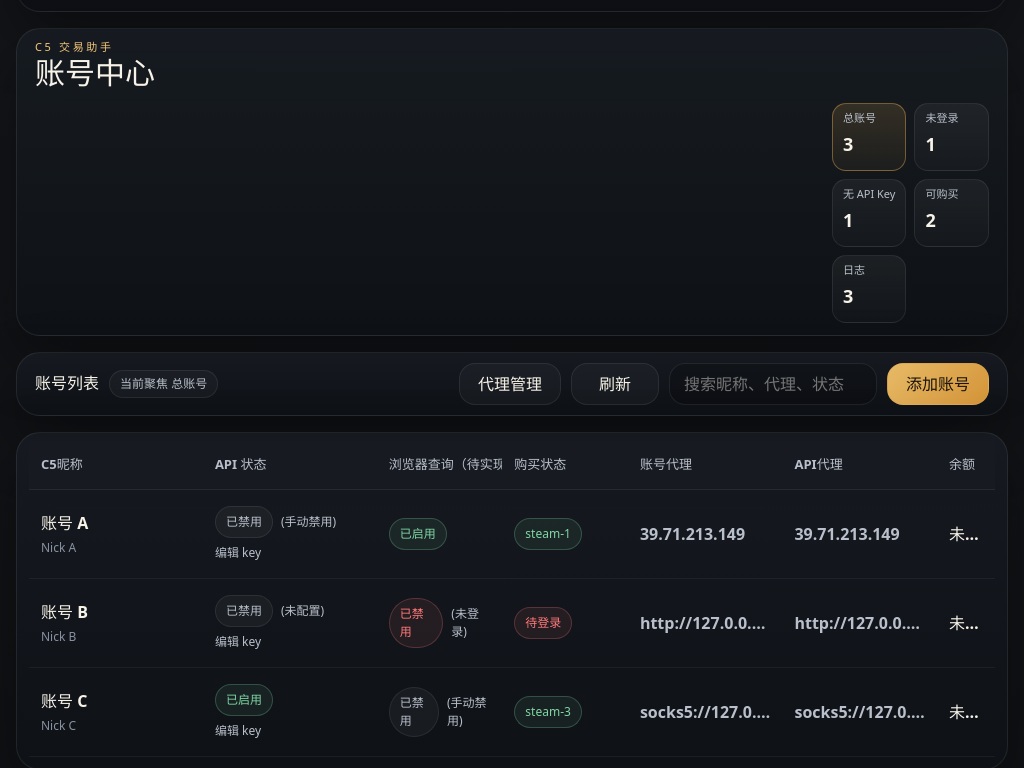
Test: account center editing flows › creates a new account from the toolbar button and refreshes the list
This screenshot has width=1024, height=768.
(page scrolled)
Expected: the text "账号 A" is shown, x1=41 y1=512 x2=88 y2=534
Step 1. Click the button "添加账号" → (938, 384), box x1=887 y1=363 x2=989 y2=405
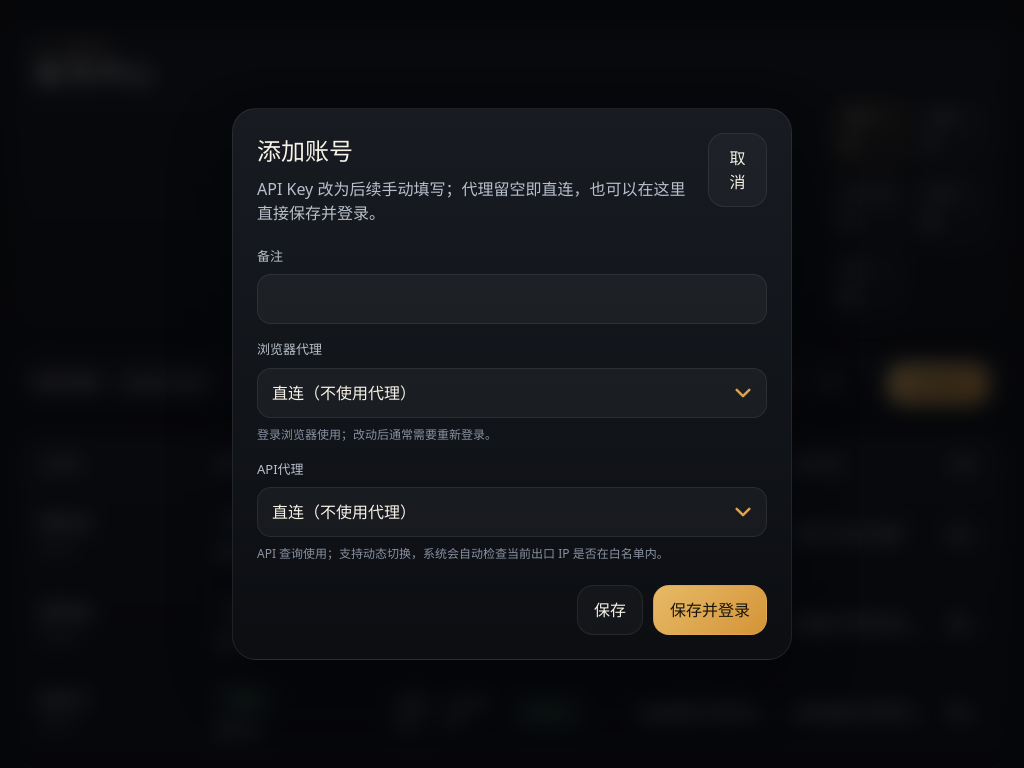
Expected: the heading "添加账号" is shown, x1=257 y1=134 x2=353 y2=167
Step 2. Type "账号 D" into the field labelled "备注" → (512, 299), box x1=257 y1=274 x2=767 y2=324
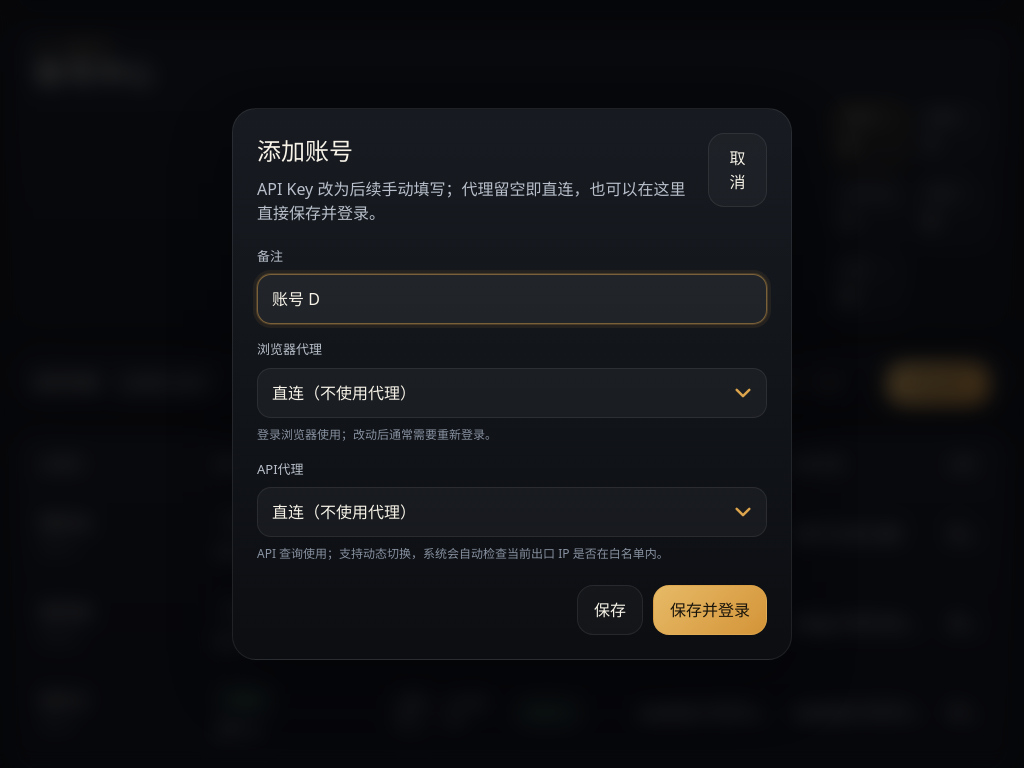
Step 3. Click the button "保存" → (610, 610), box x1=577 y1=585 x2=643 y2=635
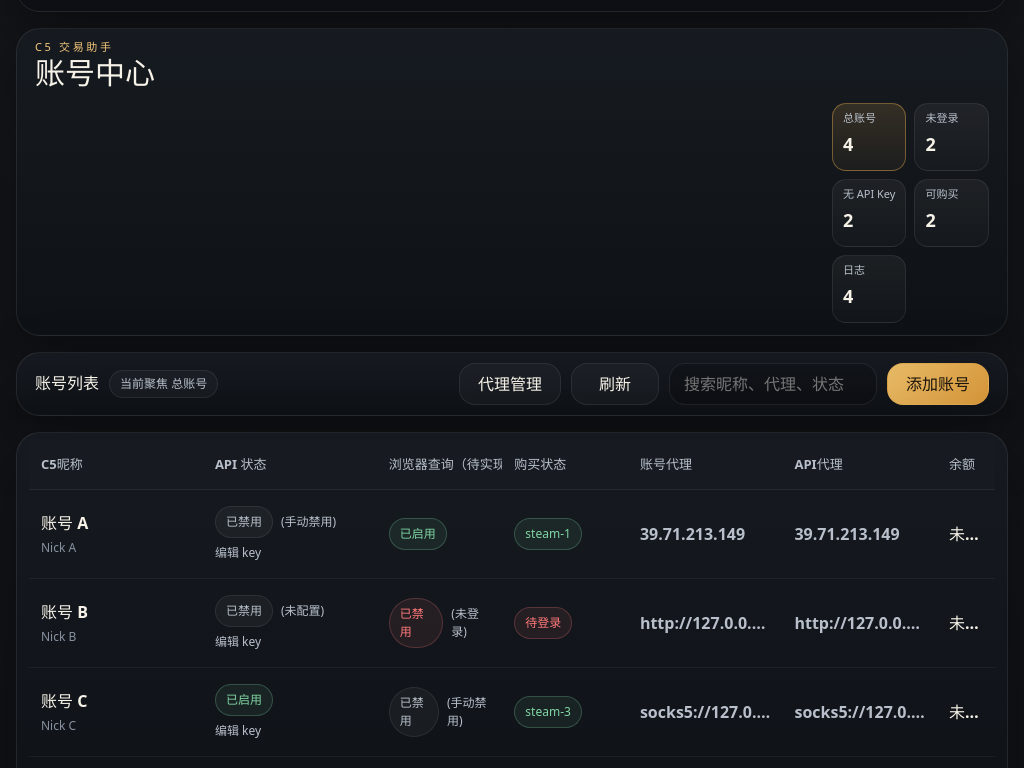
Step 4. Click the button "日志 4" → (869, 289), box x1=832 y1=255 x2=906 y2=323
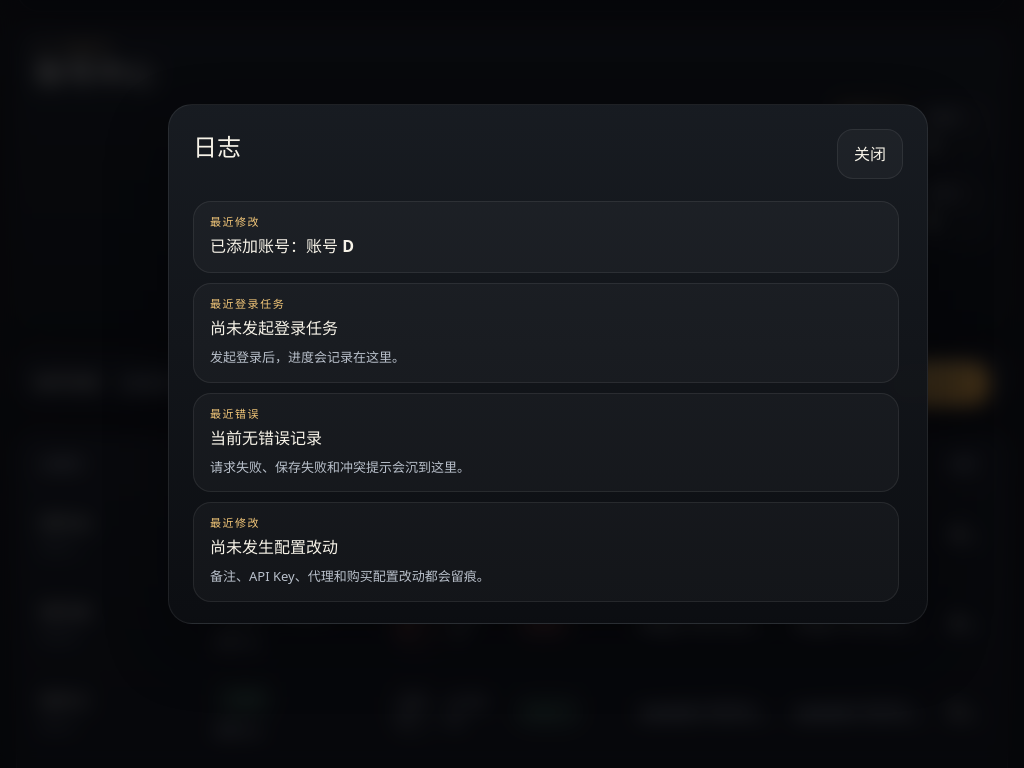
Expected: the text "已添加账号：账号 D" is shown, x1=210 y1=235 x2=354 y2=257
